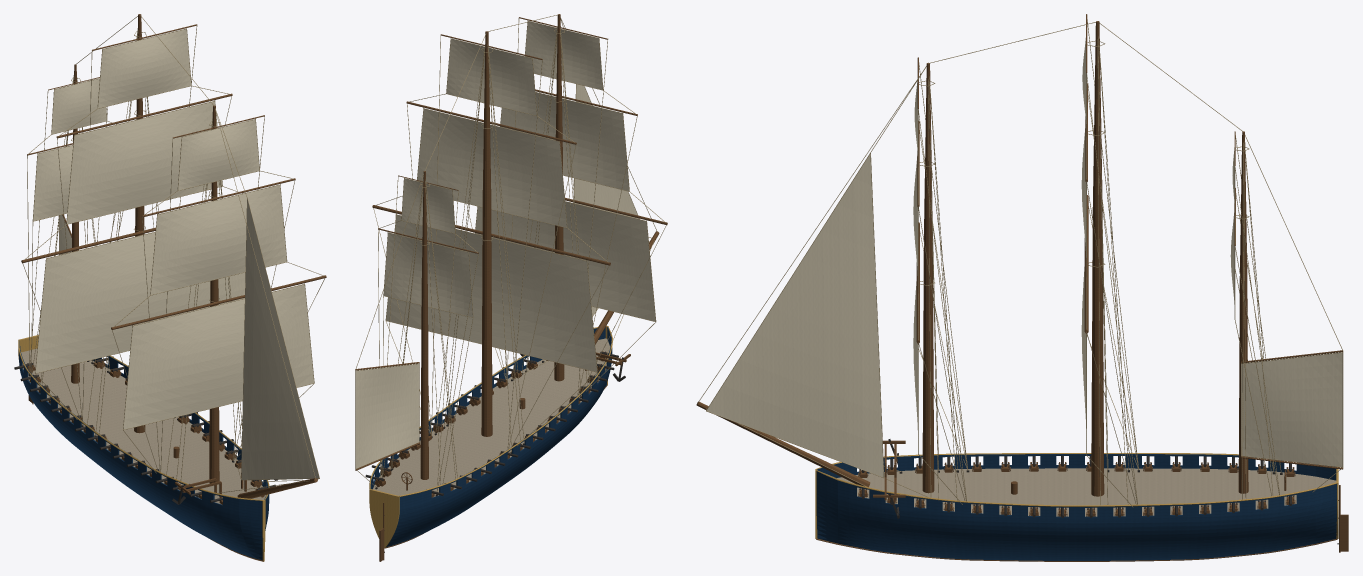
The picture shows the model from 3 angles, left to right: view 1: azimuth 30°, elevation 25°; view 2: azimuth 150°, elevation 25°; view 3: azimuth 270°, elevation 25°; orthographic projection. The views are drawn at different scales.
Visible parts, largest first — view 1: lod1_fore_square_00, lod1_main_square_00, lod1_jib_00, lod1_main_square_01, lod1_main_deck, lod1_fore_square_01, lod1_hull_shell_starboard, lod1_main_square_02, lod1_fore_square_02, lod1_mizzen_square_00, lod1_mizzen_square_01, lod1_fore (+10 smaller); view 2: lod1_main_square_00, lod1_main_square_01, lod1_main_deck, lod1_fore_square_00, lod1_hull_shell_starboard, lod1_fore_square_01, lod1_mizzen_gaff_02, lod1_mizzen_square_00, lod1_main_square_02, lod1_main, lod1_fore_square_02, lod1_mizzen (+12 smaller); view 3: lod1_jib_00, lod1_hull_shell_port, lod1_main_deck, lod1_mizzen_gaff_02, lod1_main, lod1_hull_shell_starboard, lod1_fore, lod1_mizzen, lod1_gunwale_port, lod1_bowsprit, lod1_keel.
Part boxes in pixels (bbox=[...]): lod1_fore_square_00: bbox=[123, 284, 313, 429]; lod1_main_square_00: bbox=[35, 232, 245, 372]; lod1_jib_00: bbox=[241, 200, 319, 479]; lod1_main_square_01: bbox=[67, 101, 222, 223]; lod1_main_deck: bbox=[21, 348, 266, 504]; lod1_fore_square_01: bbox=[151, 185, 286, 294]; lod1_hull_shell_starboard: bbox=[19, 340, 262, 560]; lod1_main_square_02: bbox=[98, 29, 191, 108]; lod1_fore_square_02: bbox=[178, 119, 259, 190]; lod1_mizzen_square_00: bbox=[33, 145, 72, 220]; lod1_mizzen_square_01: bbox=[51, 78, 106, 133]; lod1_fore: bbox=[209, 105, 219, 483]; lod1_main_square_00: bbox=[386, 215, 597, 371]; lod1_main_square_01: bbox=[417, 109, 566, 227]; lod1_main_deck: bbox=[373, 338, 609, 496]; lod1_fore_square_00: bbox=[475, 201, 655, 321]; lod1_hull_shell_starboard: bbox=[386, 327, 612, 547]; lod1_fore_square_01: bbox=[500, 92, 629, 190]; lod1_mizzen_gaff_02: bbox=[356, 364, 418, 468]; lod1_mizzen_square_00: bbox=[384, 233, 472, 317]; lod1_main_square_02: bbox=[446, 39, 536, 115]; lod1_main: bbox=[481, 31, 492, 436]; lod1_fore_square_02: bbox=[525, 21, 602, 89]; lod1_mizzen: bbox=[420, 171, 428, 479]; lod1_jib_00: bbox=[707, 154, 883, 477]; lod1_hull_shell_port: bbox=[816, 471, 1336, 560]; lod1_main_deck: bbox=[837, 468, 1336, 516]; lod1_mizzen_gaff_02: bbox=[1241, 352, 1342, 466]; lod1_main: bbox=[1091, 21, 1104, 496]; lod1_hull_shell_starboard: bbox=[817, 454, 1336, 480]; lod1_fore: bbox=[922, 62, 934, 493]; lod1_mizzen: bbox=[1238, 131, 1248, 493]; lod1_gunwale_port: bbox=[816, 470, 1337, 506]; lod1_bowsprit: bbox=[696, 401, 870, 487]; lod1_keel: bbox=[816, 538, 1337, 561].
Bounding box in the file's own units: 25.92 × 48.07 × 52.57.
7 materials, 7 textured.
